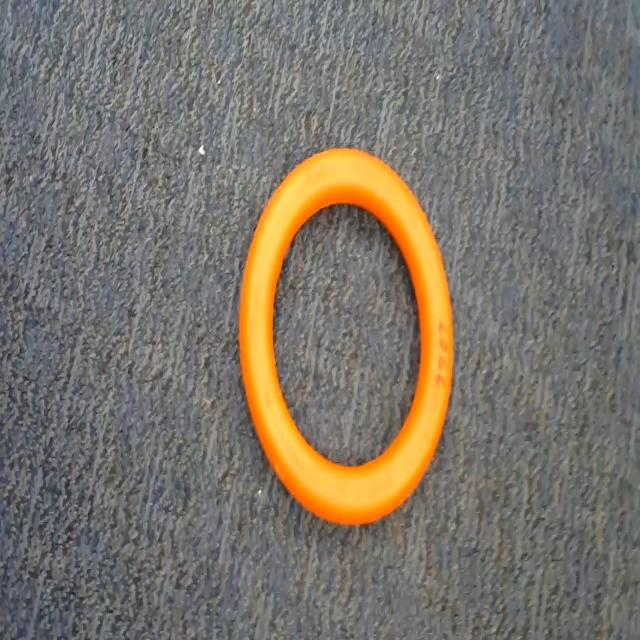note: (226, 134, 472, 544)
